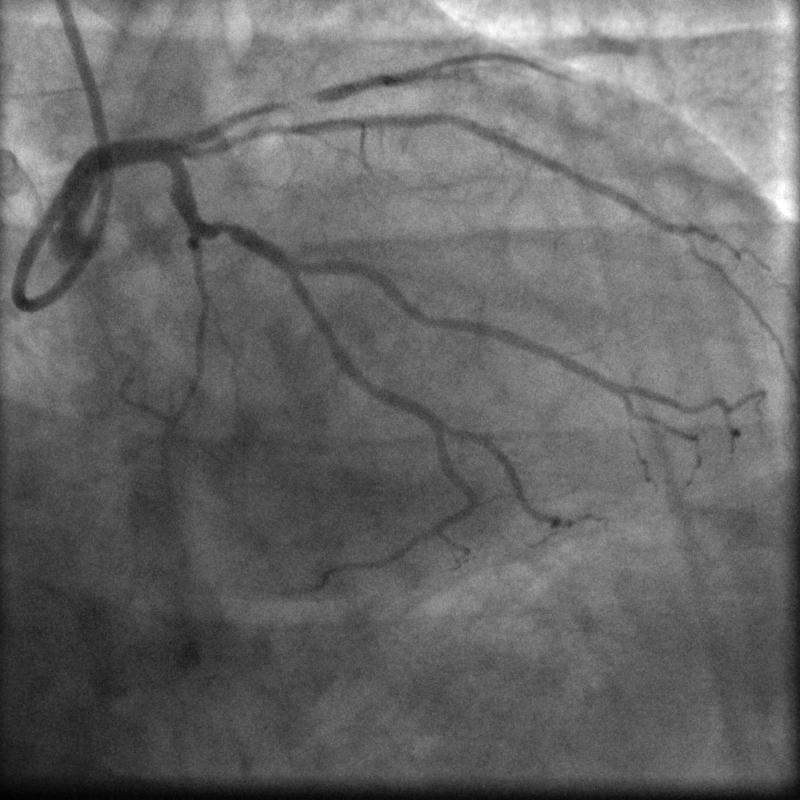Stenosis: (214, 218, 235, 242)
